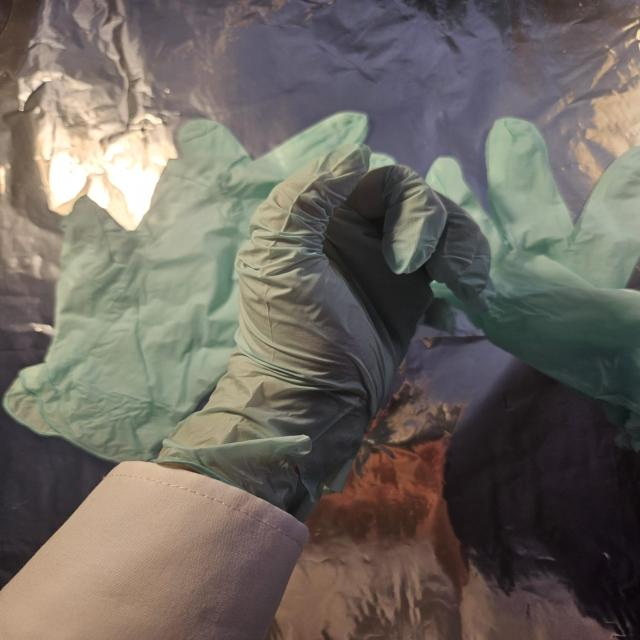gloves_damaged: (153, 143, 494, 522)
